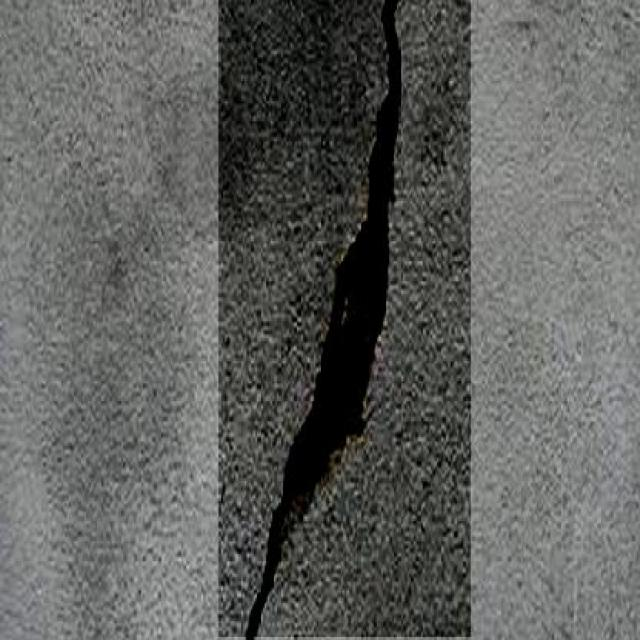Crack: (218, 4, 487, 640)
